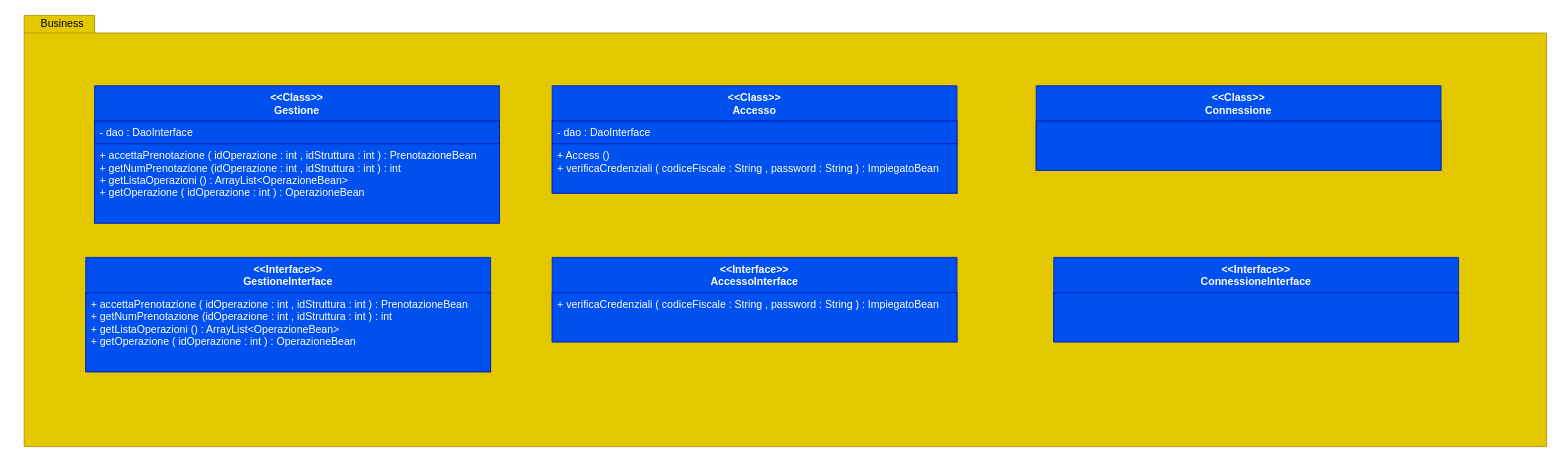
This 1562x462 diagram has some shape labels left out. The centre of each missing label's shape, as x and y in pixels:
"+ connect () : Connection + disconnect ( Connection ) : void" goes at point (1256, 317).
"+ Connessione() + connect () : Connection + disconnect ( Connection ) : void" goes at point (1238, 145).
